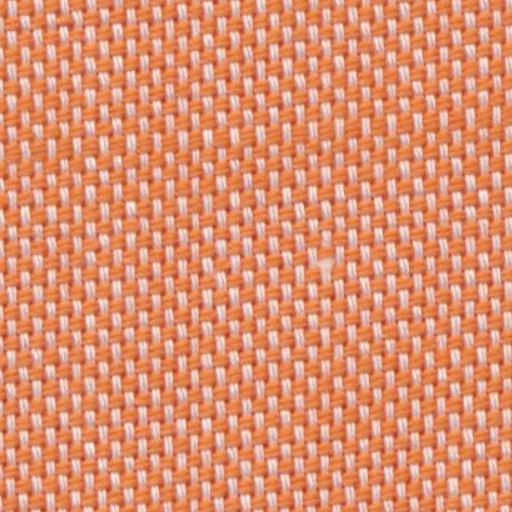TuoSha: (16, 94, 500, 187)
